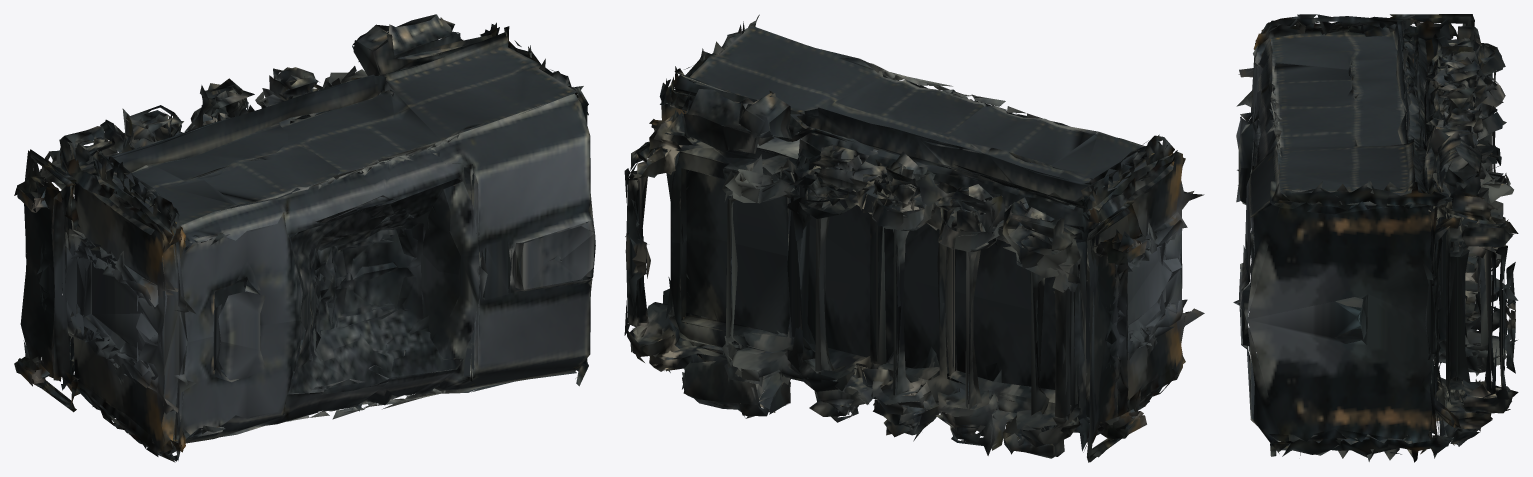
The model's file is big_boy_tender_r025.glb.
3 renders of one model, left to right at view 1: azimuth 30°, elevation 25°; view 2: azimuth 150°, elevation 25°; view 3: azimuth 270°, elevation 25°, orthographic. The views are drawn at different scales.
Visible parts, largest first — view 1: part_tender.001; view 2: part_tender.001; view 3: part_tender.001.
Boxes of the visible parts, bbox=[...] form: part_tender.001: bbox=[14, 14, 595, 462]; part_tender.001: bbox=[624, 14, 1204, 462]; part_tender.001: bbox=[1233, 14, 1518, 462].
Size of the model in its own units: 7.33 by 4.69 by 4.06.
Materials: 1 (1 with a texture image).
